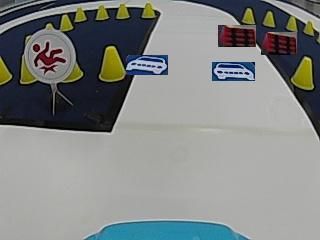cone: (99, 45, 126, 82), (291, 55, 313, 90), (19, 59, 36, 84), (0, 58, 12, 86), (241, 7, 255, 25), (59, 13, 73, 31), (141, 1, 155, 18), (95, 3, 109, 20), (116, 2, 129, 19), (73, 6, 86, 22), (263, 10, 275, 27), (286, 15, 298, 32), (304, 19, 313, 36)
tumble: (25, 40, 67, 76)
